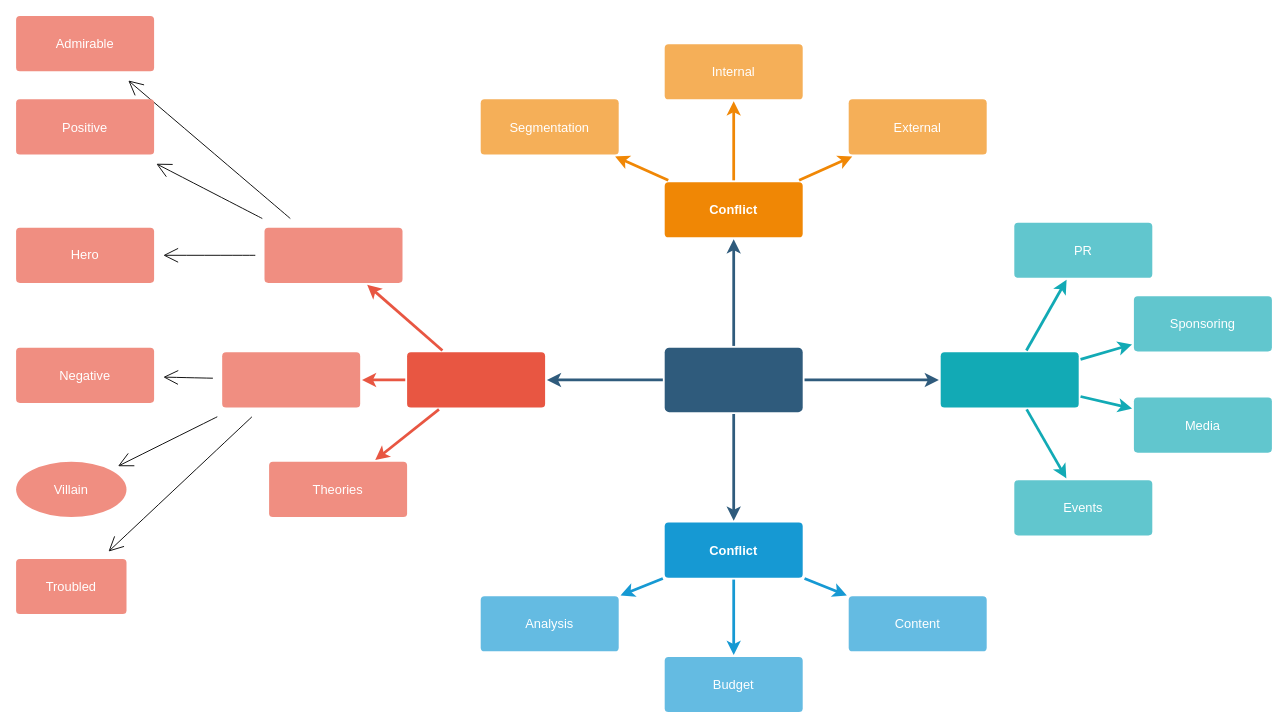
This 1287x728 diagram has some shape labels left out. Each missing label, with the box of its shape:
Antagonist: (222, 352, 360, 407)
Character: (407, 352, 545, 407)
Focus: (940, 352, 1078, 407)
Protagonist: (264, 227, 402, 282)
Story Telling: (664, 347, 802, 412)
